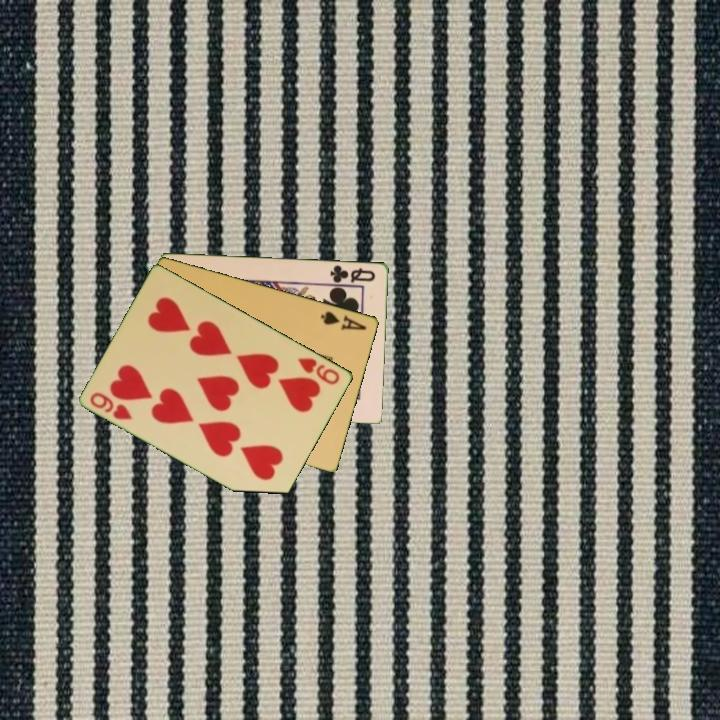9h: (87, 389, 136, 423), (295, 354, 343, 388)
As: (317, 307, 370, 333)
Qc: (327, 261, 379, 286)
